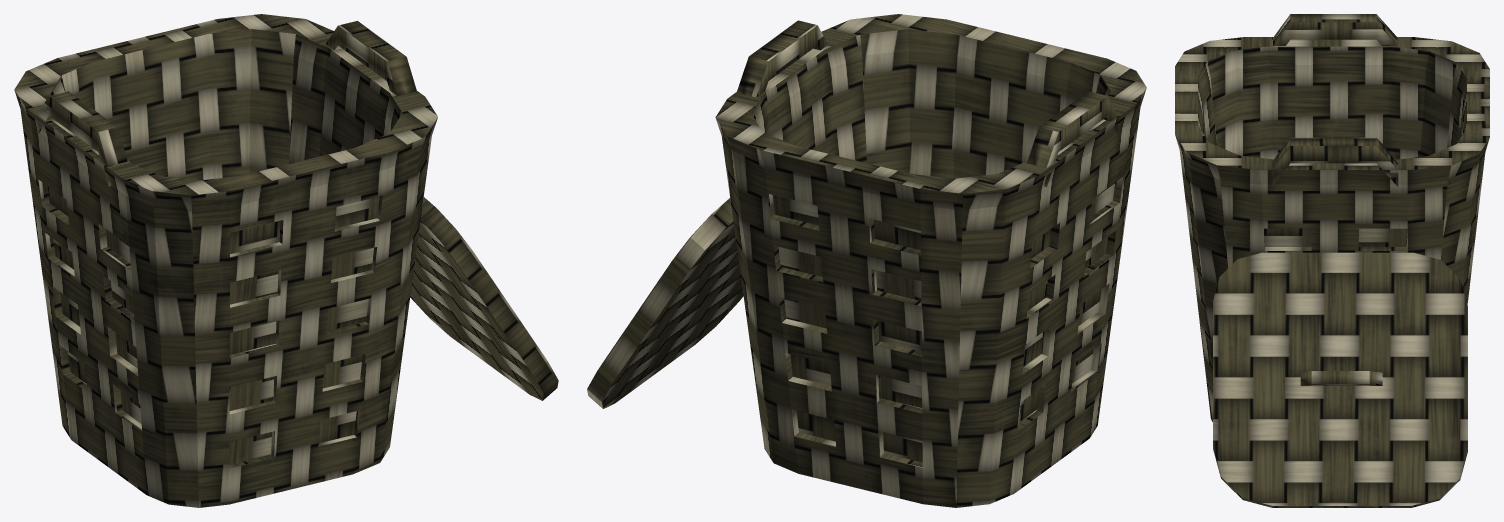
File: çamaşırsepettttt.fbx
The picture shows the model from 3 angles, left to right: view 1: azimuth 30°, elevation 25°; view 2: azimuth 150°, elevation 25°; view 3: azimuth 270°, elevation 25°; orthographic projection. The views are drawn at different scales.
Parts seen in each view (by area): view 1: LaundryBox; view 2: LaundryBox; view 3: LaundryBox.
Boxes of the visible parts, <box> form: LaundryBox: <box>14,14,558,507</box>; LaundryBox: <box>587,14,1146,507</box>; LaundryBox: <box>1175,14,1489,507</box>.
Bounding box in the file's own units: 272 × 214 × 193.
